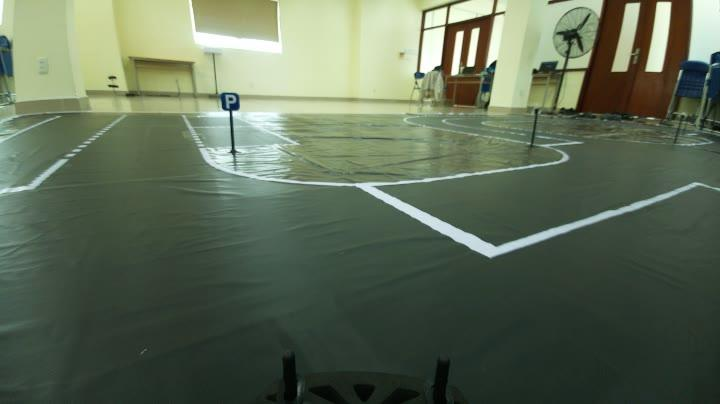parking: (218, 88, 245, 120)
